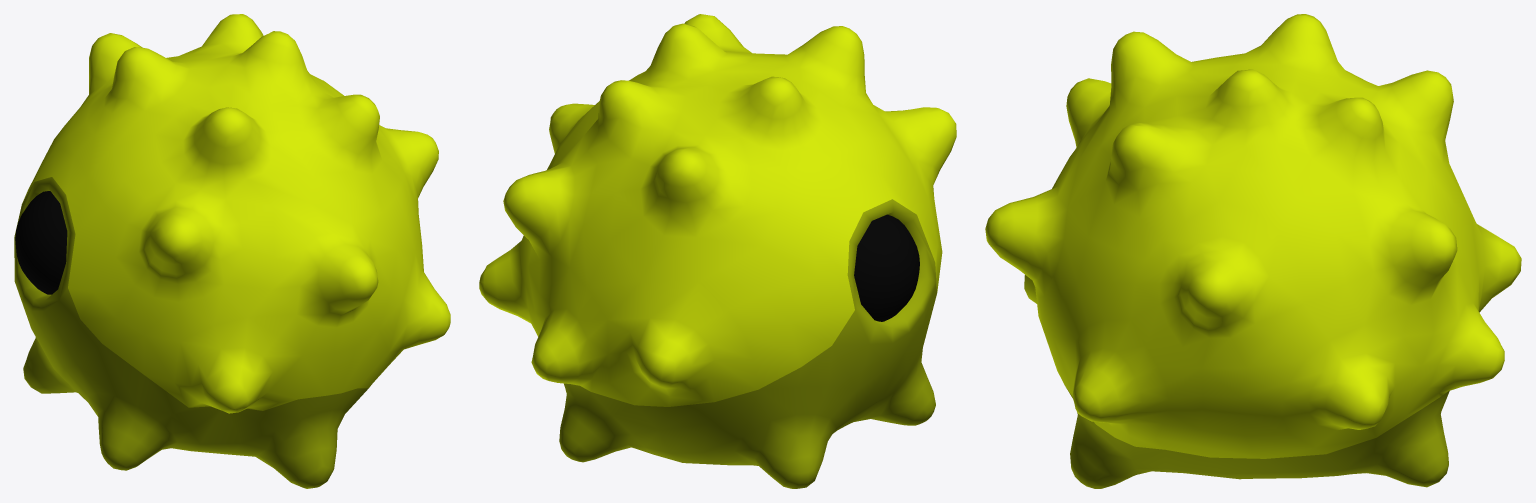
The model's file is MonsterBall.fbx.
3 views of the same model, side by side, from view 1: azimuth 30°, elevation 25°; view 2: azimuth 150°, elevation 25°; view 3: azimuth 270°, elevation 25° (orthographic). The views are drawn at different scales.
Parts seen in each view (by area): view 1: polySurface3; view 2: polySurface3; view 3: polySurface3.
Part boxes in pixels (left/top/right/bottom): polySurface3: left=14, top=14, right=450, bottom=488; polySurface3: left=479, top=14, right=956, bottom=488; polySurface3: left=985, top=14, right=1521, bottom=488.
Size of the model in its own units: 11.6 by 11.52 by 12.86.
